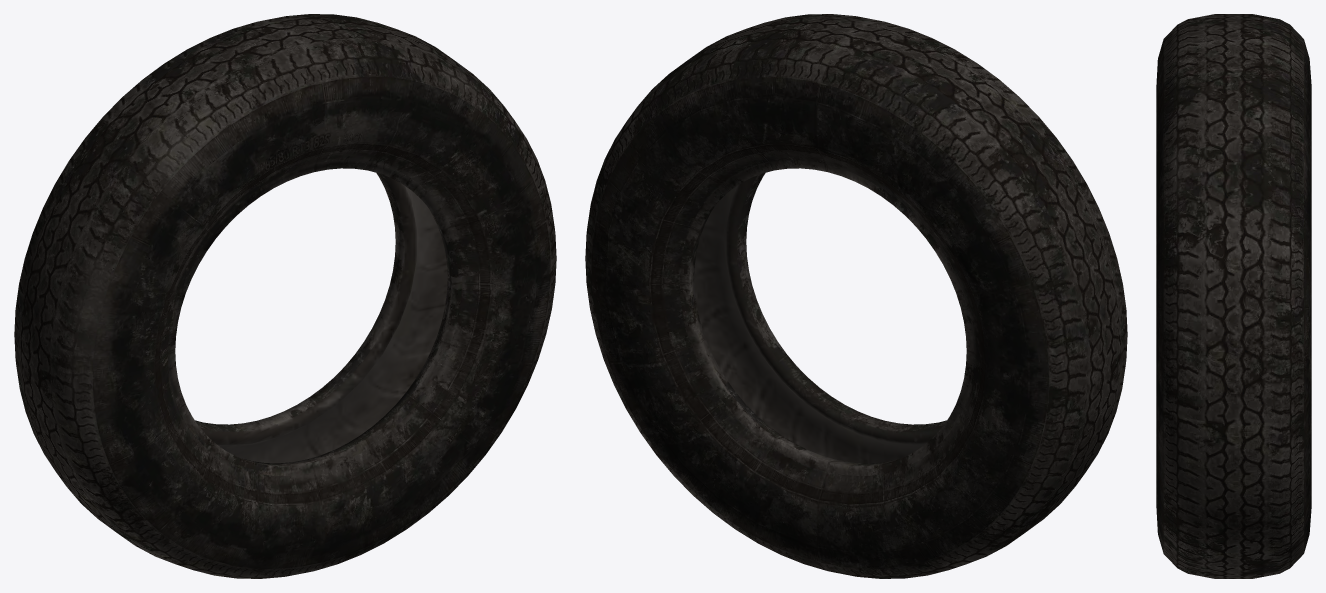
The model's file is old_tyre.glb.
3 renders of one model, left to right at view 1: azimuth 30°, elevation 25°; view 2: azimuth 150°, elevation 25°; view 3: azimuth 270°, elevation 25°, orthographic. The views are drawn at different scales.
Parts seen in each view (by area): view 1: old_tyre; view 2: old_tyre; view 3: old_tyre.
Boxes of the visible parts, x1=… form: old_tyre: x1=14, y1=14, x2=556, y2=578; old_tyre: x1=585, y1=14, x2=1127, y2=578; old_tyre: x1=1156, y1=14, x2=1311, y2=578.
Bounding box in the file's own units: 0.6 × 0.6 × 0.165.
Materials: 1 (1 with a texture image).
